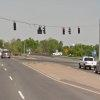Traffic light: (27, 16, 85, 43)
